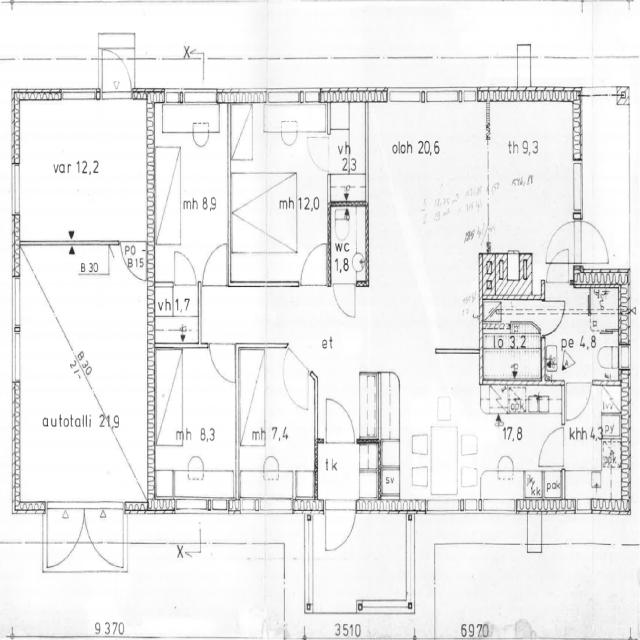door: (85, 501, 123, 572), (47, 501, 85, 572), (272, 345, 310, 403), (326, 499, 356, 559), (573, 221, 610, 264), (545, 221, 582, 264), (102, 45, 131, 99), (326, 395, 355, 443), (536, 428, 565, 466), (566, 380, 592, 422), (300, 244, 325, 287), (121, 240, 145, 282), (210, 344, 234, 386), (202, 246, 226, 287), (546, 246, 569, 284), (333, 282, 355, 320), (541, 301, 566, 334), (174, 250, 196, 287), (306, 138, 330, 170)
